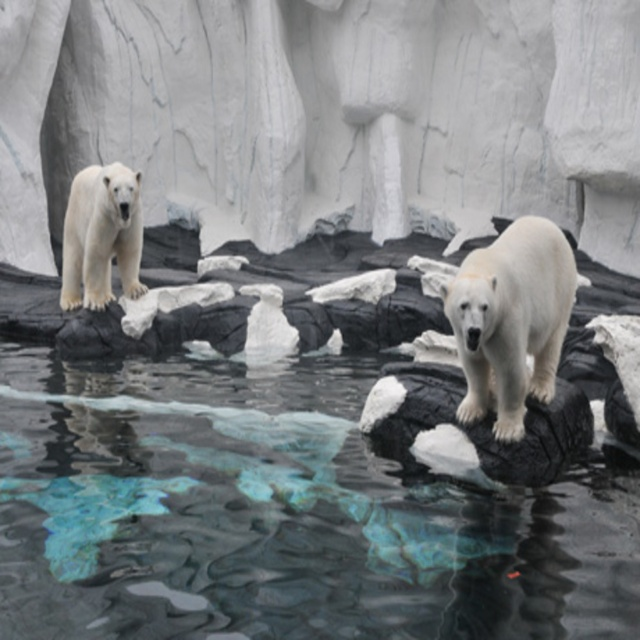Polar bear: (437, 213, 576, 447), (60, 160, 142, 310)
